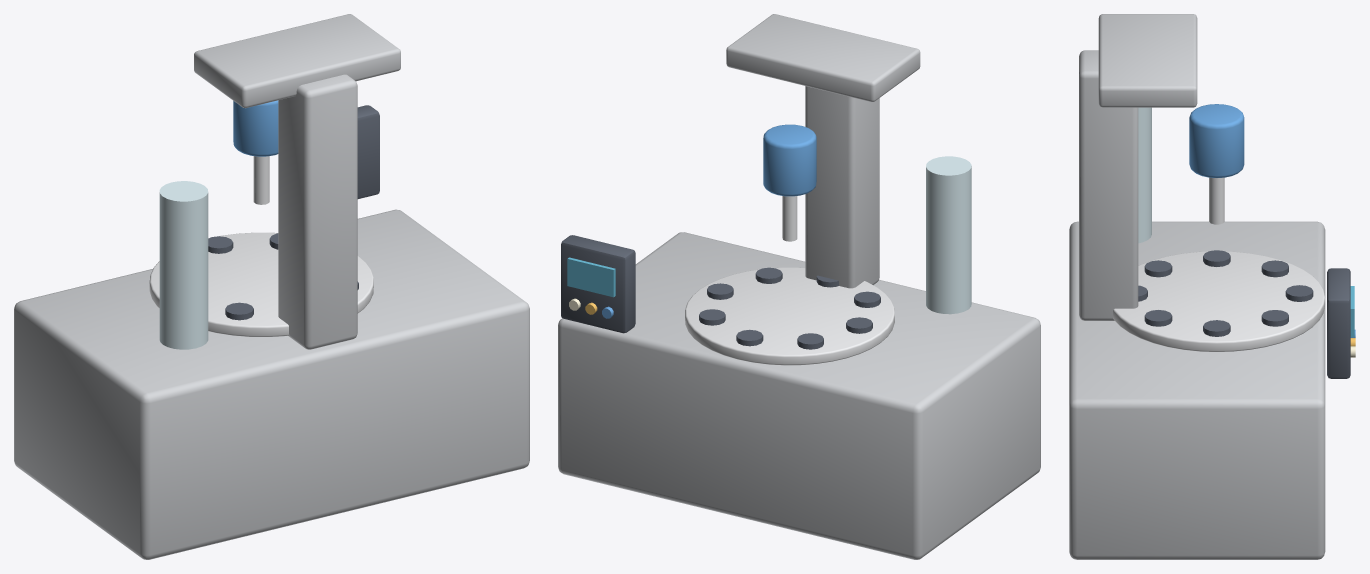
The model's file is RozlewKubki.fbx.
The picture shows the model from 3 angles, left to right: view 1: azimuth 30°, elevation 25°; view 2: azimuth 150°, elevation 25°; view 3: azimuth 270°, elevation 25°; orthographic projection. The views are drawn at different scales.
Parts seen in each view (by area): view 1: Maszyna_RozlewKubki_Korpus, Maszyna_RozlewKubki_Talerz_Obrot, Maszyna_RozlewKubki_Glowica_Tlok; view 2: Maszyna_RozlewKubki_Korpus, Maszyna_RozlewKubki_Talerz_Obrot, Maszyna_RozlewKubki_Glowica_Tlok; view 3: Maszyna_RozlewKubki_Korpus, Maszyna_RozlewKubki_Talerz_Obrot, Maszyna_RozlewKubki_Glowica_Tlok.
Boxes of the visible parts, <box> form: Maszyna_RozlewKubki_Korpus: <box>14,14,529,559</box>; Maszyna_RozlewKubki_Talerz_Obrot: <box>149,232,373,336</box>; Maszyna_RozlewKubki_Glowica_Tlok: <box>233,100,278,204</box>; Maszyna_RozlewKubki_Korpus: <box>558,14,1040,559</box>; Maszyna_RozlewKubki_Talerz_Obrot: <box>685,267,894,365</box>; Maszyna_RozlewKubki_Glowica_Tlok: <box>763,124,816,241</box>; Maszyna_RozlewKubki_Korpus: <box>1069,14,1355,559</box>; Maszyna_RozlewKubki_Talerz_Obrot: <box>1113,250,1325,351</box>; Maszyna_RozlewKubki_Glowica_Tlok: <box>1189,104,1244,224</box>.
Bounding box in the file's own units: 2.2 × 2.52 × 1.45.
